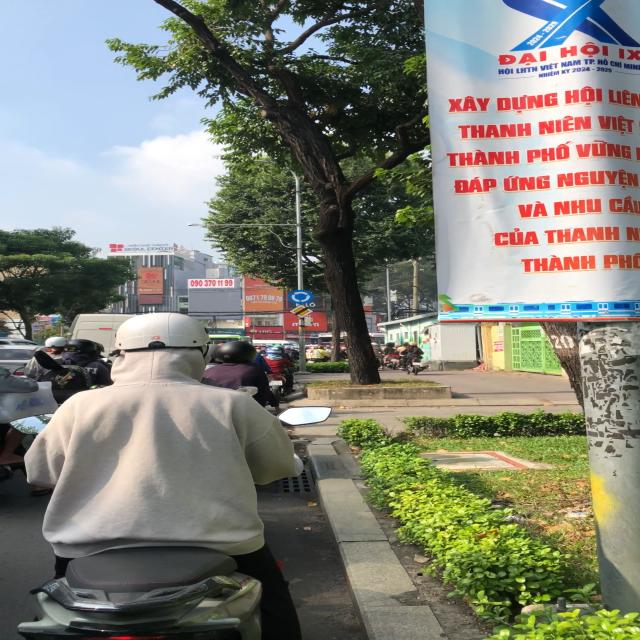Bien bao noi giao nhau chay theo vong xuyen: (286, 288, 318, 306)
